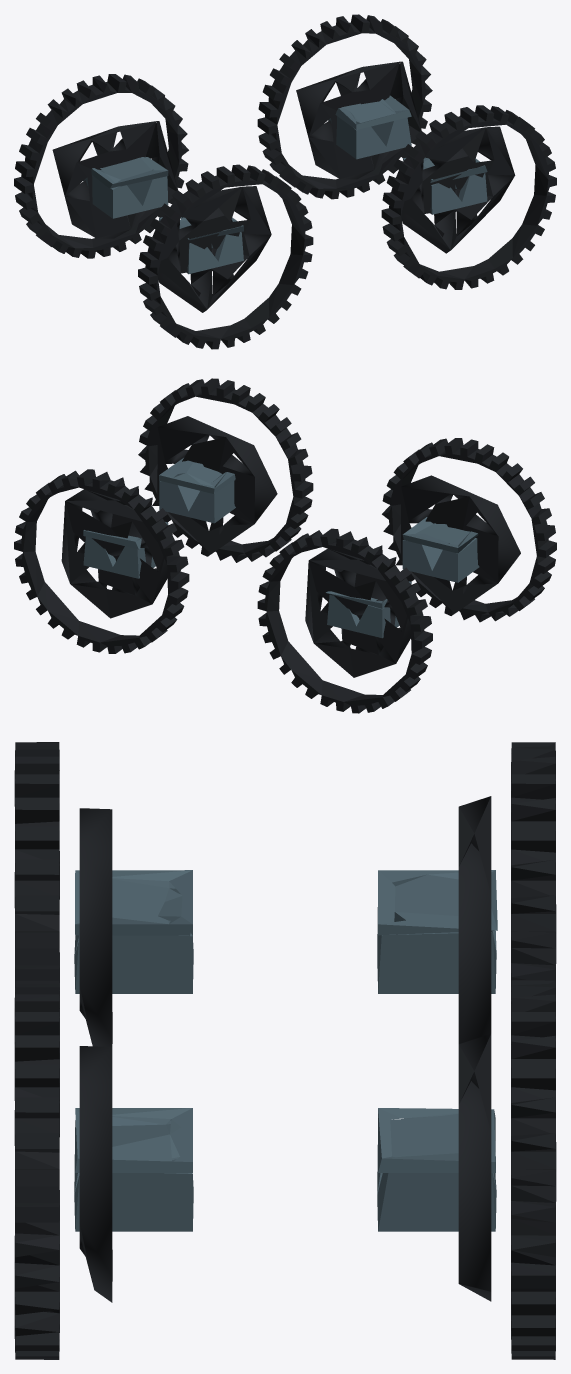
The model's file is offroad_wheels.glb.
The picture shows the model from 3 angles, top to bottom: view 1: azimuth 30°, elevation 25°; view 2: azimuth 150°, elevation 25°; view 3: azimuth 270°, elevation 25°; orthographic projection. The views are drawn at different scales.
Visible parts, largest first — view 1: print_offroad_tread_80__18, print_offroad_tread_80__8, print_offroad_tread_80__13, print_offroad_tread_80__23, mesh_rubber_and_chip_21_002, mesh_rubber_and_chip_21, mesh_rubber_and_chip_21_001, mesh_rubber_and_chip_21_003, print_motor_saddle__4, print_motor_saddle__2, print_motor_cap__2, print_motor_cap__4 (+3 smaller); view 2: print_offroad_tread_80__23, print_offroad_tread_80__13, mesh_rubber_and_chip_21_003, mesh_rubber_and_chip_21_001, print_offroad_tread_80__8, mesh_rubber_and_chip_21, mesh_rubber_and_chip_21_002, print_offroad_tread_80__18, print_motor_saddle__3, print_motor_saddle__1, print_motor_saddle__4, print_motor_cap__1 (+3 smaller); view 3: print_offroad_tread_80__8, print_offroad_tread_80__13, print_offroad_tread_80__18, print_offroad_tread_80__23, mesh_rubber_and_chip_21_001, mesh_rubber_and_chip_21_003, mesh_rubber_and_chip_21, mesh_rubber_and_chip_21_002, print_motor_cap__3, print_motor_cap__2, print_motor_cap__4, print_motor_cap__1 (+4 smaller).
Part boxes in pixels (bbox=[...]): print_offroad_tread_80__18: bbox=[138, 164, 313, 349]; print_offroad_tread_80__8: bbox=[381, 105, 556, 289]; print_offroad_tread_80__13: bbox=[257, 14, 432, 199]; print_offroad_tread_80__23: bbox=[14, 74, 188, 258]; mesh_rubber_and_chip_21_002: bbox=[157, 186, 271, 312]; mesh_rubber_and_chip_21: bbox=[401, 126, 515, 253]; mesh_rubber_and_chip_21_001: bbox=[296, 61, 421, 179]; mesh_rubber_and_chip_21_003: bbox=[52, 121, 177, 238]; print_motor_saddle__4: bbox=[83, 175, 168, 218]; print_motor_saddle__2: bbox=[328, 116, 411, 159]; print_motor_cap__2: bbox=[335, 95, 411, 129]; print_motor_cap__4: bbox=[91, 157, 168, 188]; print_offroad_tread_80__23: bbox=[257, 528, 432, 713]; print_offroad_tread_80__13: bbox=[14, 469, 189, 653]; mesh_rubber_and_chip_21_003: bbox=[305, 548, 416, 677]; mesh_rubber_and_chip_21_001: bbox=[61, 489, 172, 618]; print_offroad_tread_80__8: bbox=[138, 378, 313, 562]; mesh_rubber_and_chip_21: bbox=[157, 416, 277, 553]; mesh_rubber_and_chip_21_002: bbox=[401, 475, 520, 613]; print_offroad_tread_80__18: bbox=[382, 438, 556, 622]; print_motor_saddle__3: bbox=[402, 538, 479, 582]; print_motor_saddle__1: bbox=[159, 474, 235, 523]; print_motor_saddle__4: bbox=[327, 595, 399, 638]; print_motor_cap__1: bbox=[159, 458, 235, 493]; print_offroad_tread_80__8: bbox=[14, 980, 59, 1359]; print_offroad_tread_80__13: bbox=[511, 980, 556, 1359]; print_offroad_tread_80__18: bbox=[14, 742, 59, 1100]; print_offroad_tread_80__23: bbox=[511, 742, 556, 999]; mesh_rubber_and_chip_21_001: bbox=[458, 1034, 491, 1301]; mesh_rubber_and_chip_21_003: bbox=[458, 796, 491, 1043]; mesh_rubber_and_chip_21: bbox=[79, 1046, 112, 1302]; mesh_rubber_and_chip_21_002: bbox=[79, 808, 112, 1046]; print_motor_cap__3: bbox=[75, 870, 192, 935]; print_motor_cap__2: bbox=[378, 1108, 495, 1172]; print_motor_cap__4: bbox=[378, 870, 497, 935]; print_motor_cap__1: bbox=[75, 1108, 192, 1172].
Size of the model in its own units: 2.18 by 0.8775 by 1.25.
